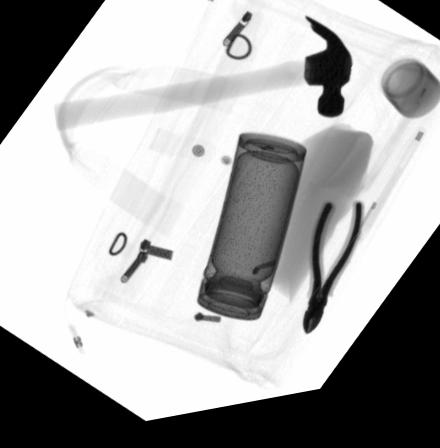Hammer: (52, 25, 353, 135)
Pliers: (302, 211, 366, 346)
